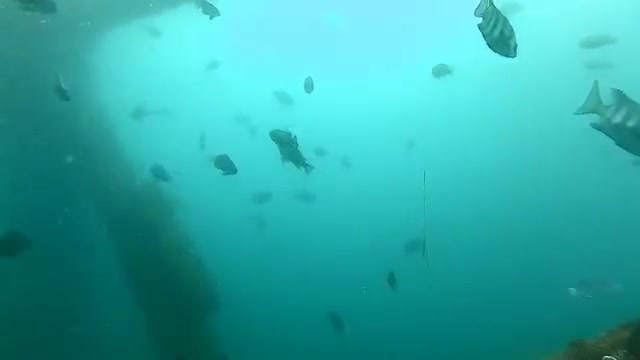ishidai: (471, 1, 525, 66)
smallfish: (579, 83, 640, 141), (267, 126, 320, 180), (207, 154, 246, 181), (196, 1, 229, 22), (428, 60, 458, 82), (296, 77, 322, 101)
